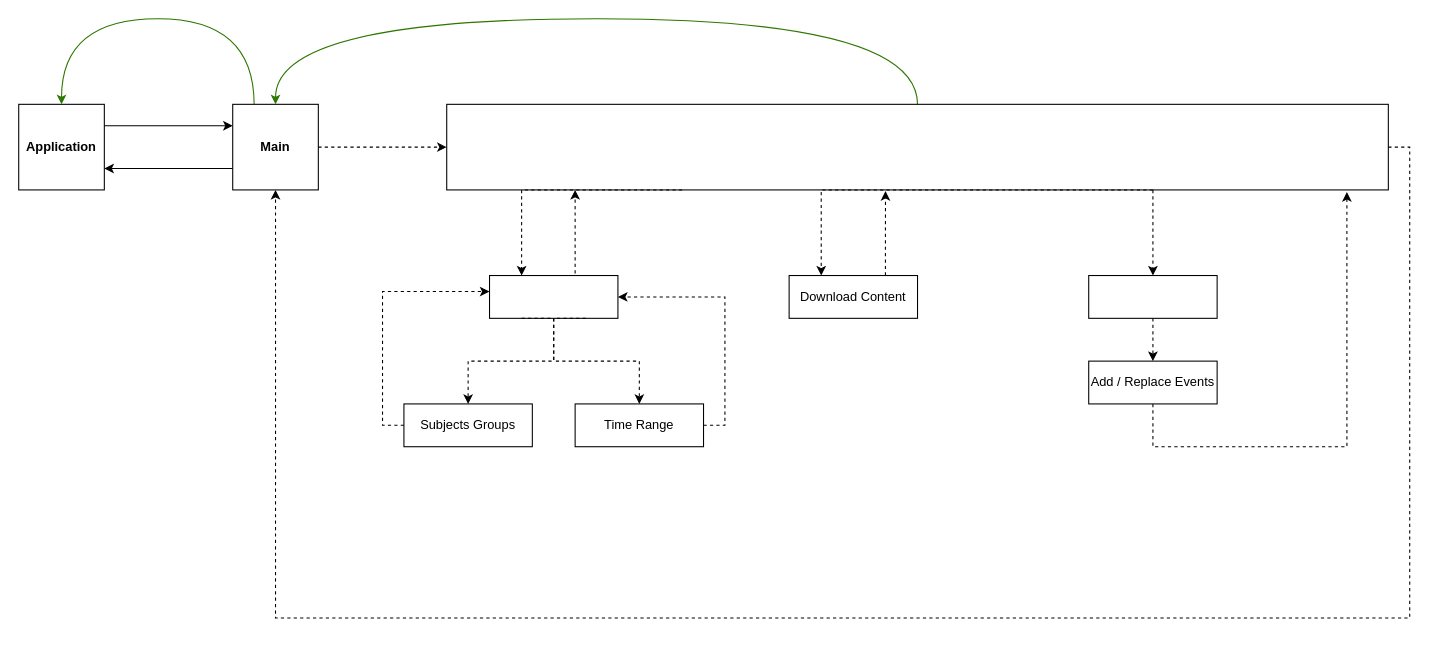
The diagram is 1437 pixels wide and 645 high, and some of its shapes have lost their labels. The shapes that lost their labels are listed below. From the top down, each one's centre as x and y in pixels, then its label:
At (917,146): "RunApplication".
At (553,296): "Get User Preferences".
At (1152,296): "Create Calendar".
